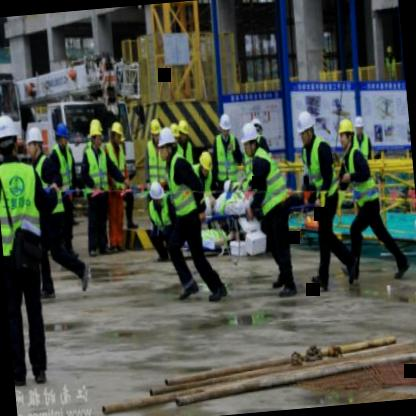helmet: (294, 108, 318, 149), (238, 121, 262, 160), (24, 122, 46, 164), (0, 113, 20, 158), (334, 114, 356, 154), (156, 126, 179, 162), (86, 118, 106, 152), (196, 146, 215, 181), (52, 119, 72, 152), (145, 177, 165, 208), (176, 116, 193, 151), (147, 114, 164, 145), (217, 110, 234, 140), (110, 119, 126, 148), (353, 116, 368, 140)
